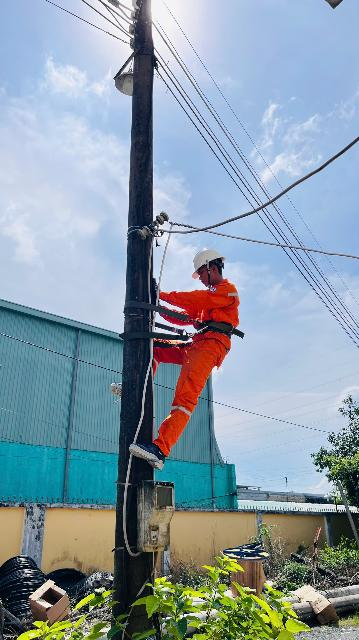gloves: (148, 273, 171, 302)
harness: (184, 313, 250, 345)
helmet: (185, 243, 236, 278)
shoes: (106, 375, 159, 409), (127, 441, 181, 474)
